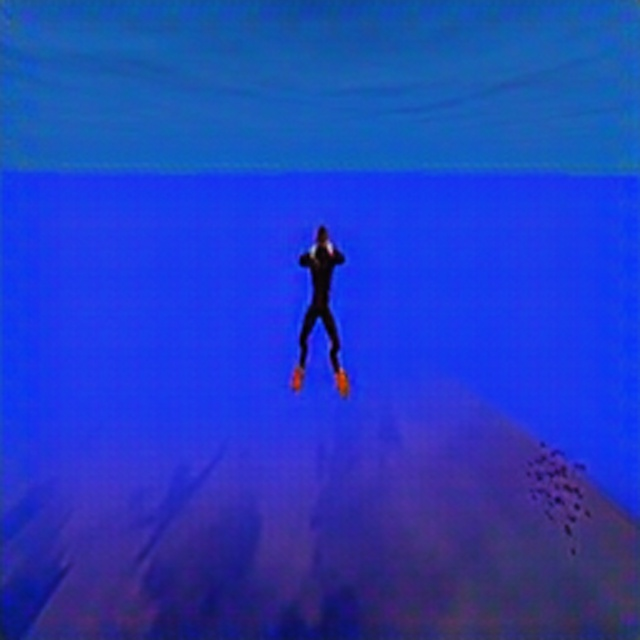diver: (289, 221, 352, 400)
